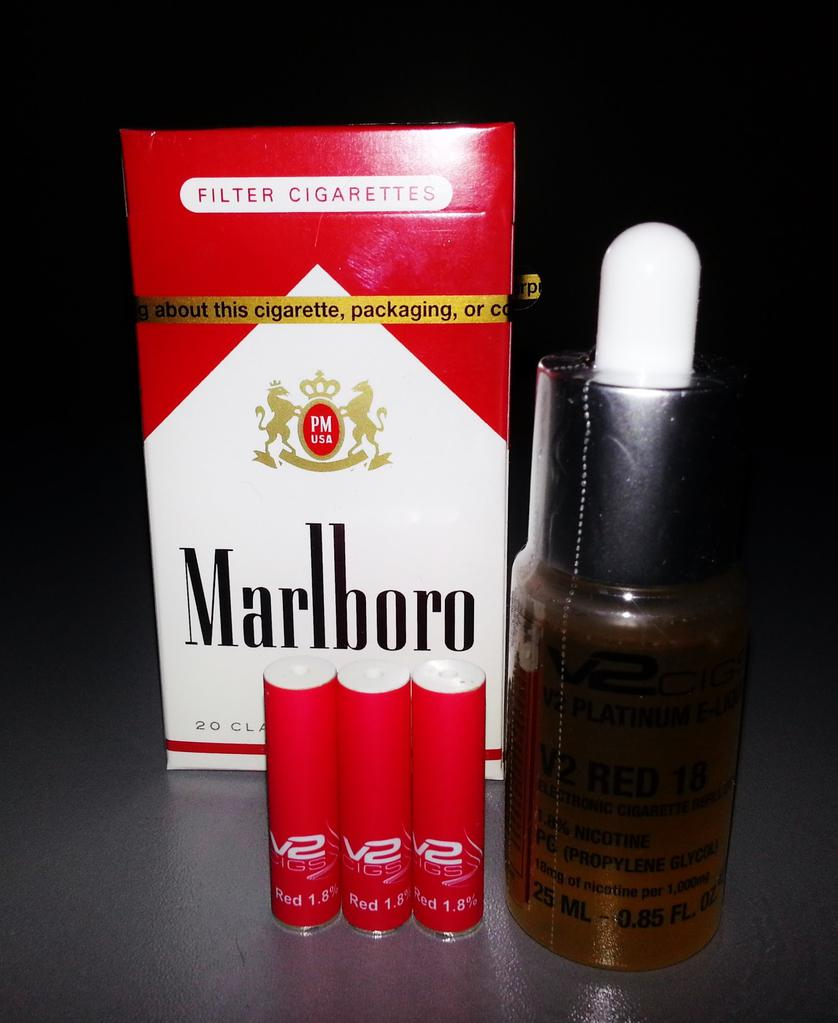marlboro_red: (160, 126, 497, 761)
